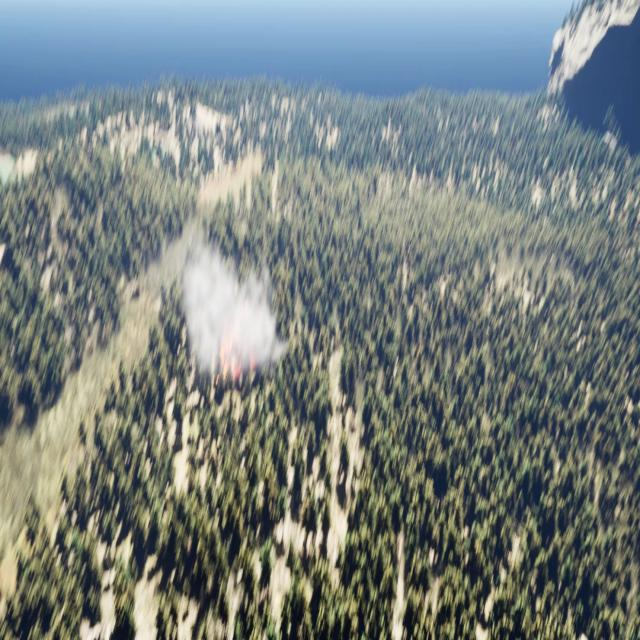smoke: (174, 238, 290, 382)
